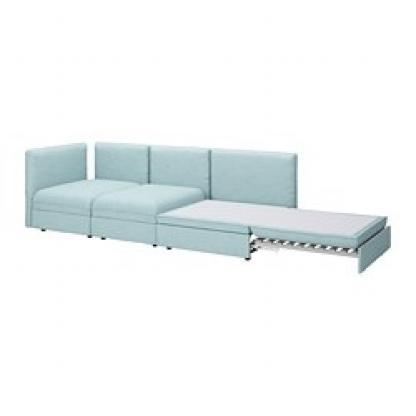Sofa: (19, 125, 394, 281)
